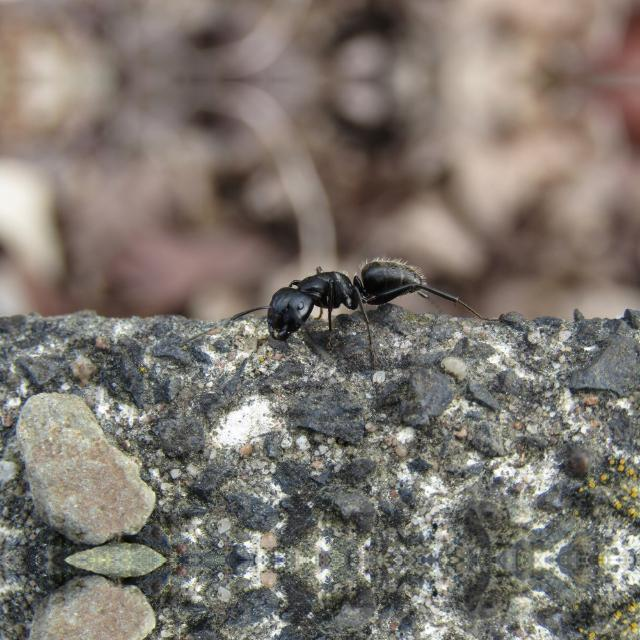Camponotus: (254, 228, 446, 370)
